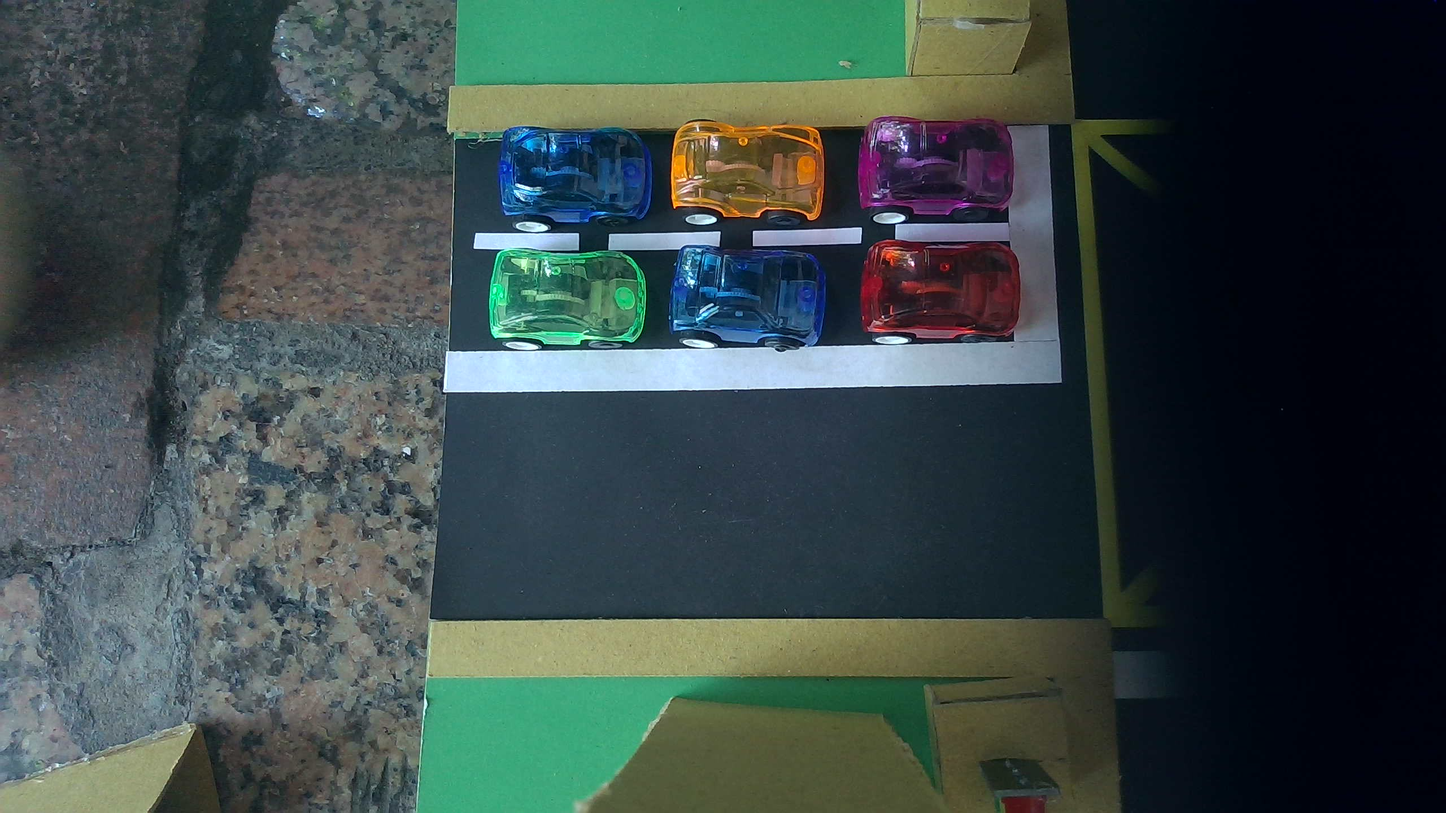Mobil biru: (669, 245, 826, 351), (498, 126, 652, 233)
Mobil hijau: (488, 249, 647, 349)
Mobil merah: (861, 239, 1021, 344)
Mobil orange: (670, 120, 825, 226)
Mobil ungu: (857, 116, 1014, 224)
